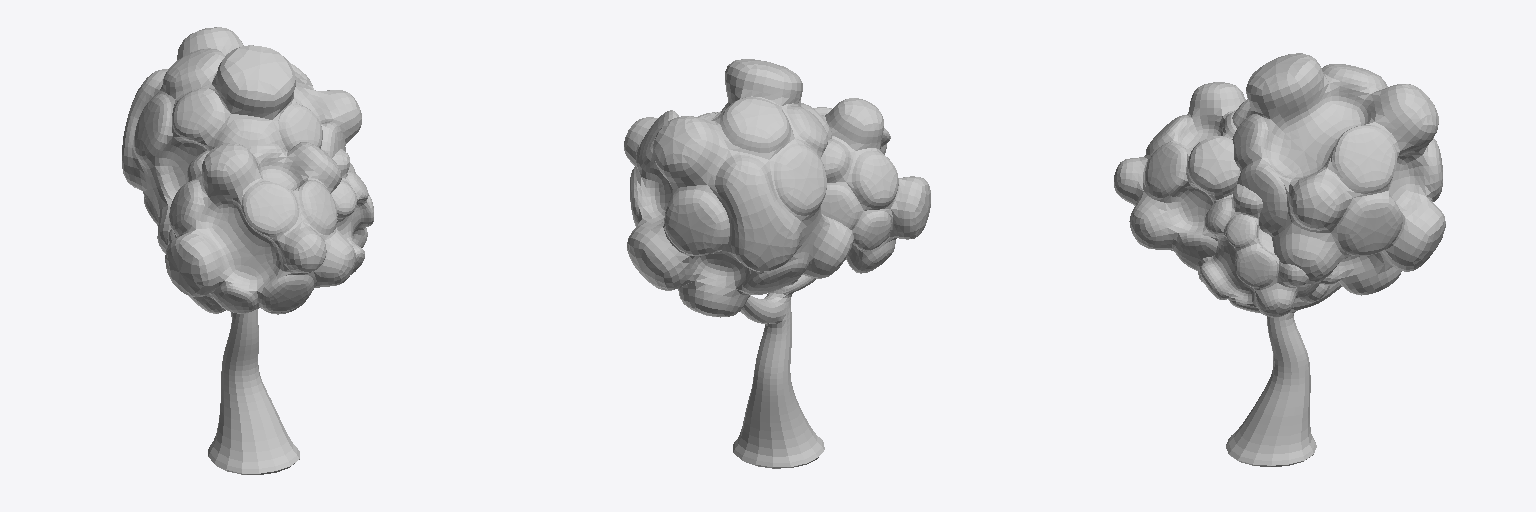
The model's file is cell_tree.obj.
3 renders of one model, left to right at view 1: azimuth 30°, elevation 25°; view 2: azimuth 150°, elevation 25°; view 3: azimuth 270°, elevation 25°, orthographic.
Visible parts, largest first — view 1: group1 pSolid8, pCube1 group1; view 2: group1 pSolid8, pCube1 group1; view 3: group1 pSolid8, pCube1 group1.
Boxes of the visible parts, box(x1,y1,x2,y2) form: group1 pSolid8: box(122, 27, 373, 314); pCube1 group1: box(208, 309, 299, 474); group1 pSolid8: box(624, 59, 930, 317); pCube1 group1: box(733, 275, 824, 468); group1 pSolid8: box(1114, 53, 1445, 317); pCube1 group1: box(1226, 282, 1341, 466).
Bounding box in the file's own units: 1.66 × 2.62 × 1.99.